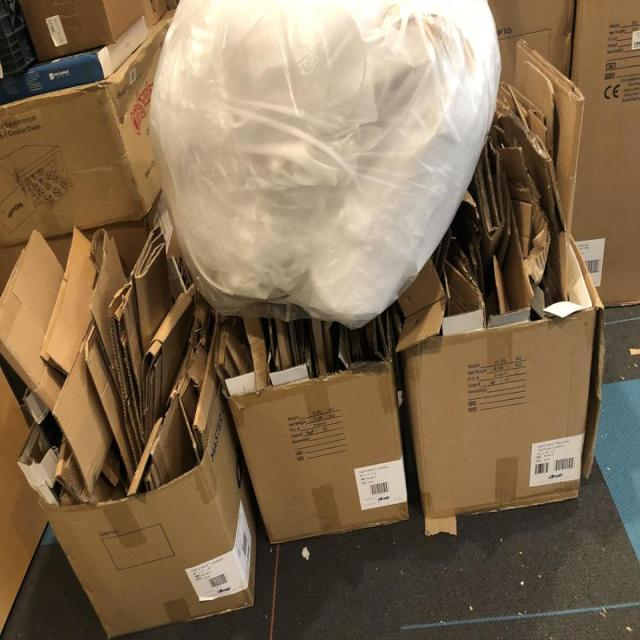cardboard: (4, 256, 249, 620), (262, 334, 587, 526), (502, 10, 637, 304), (6, 1, 147, 222)
trash: (154, 5, 497, 239)
